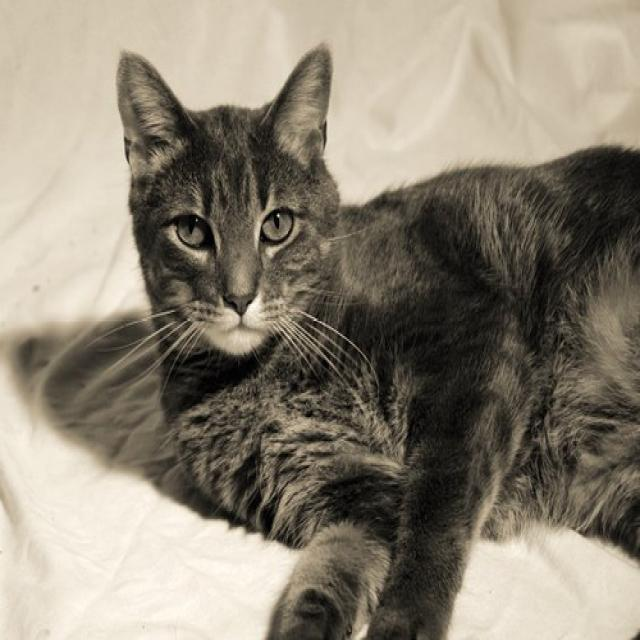left eye: (257, 204, 296, 245)
